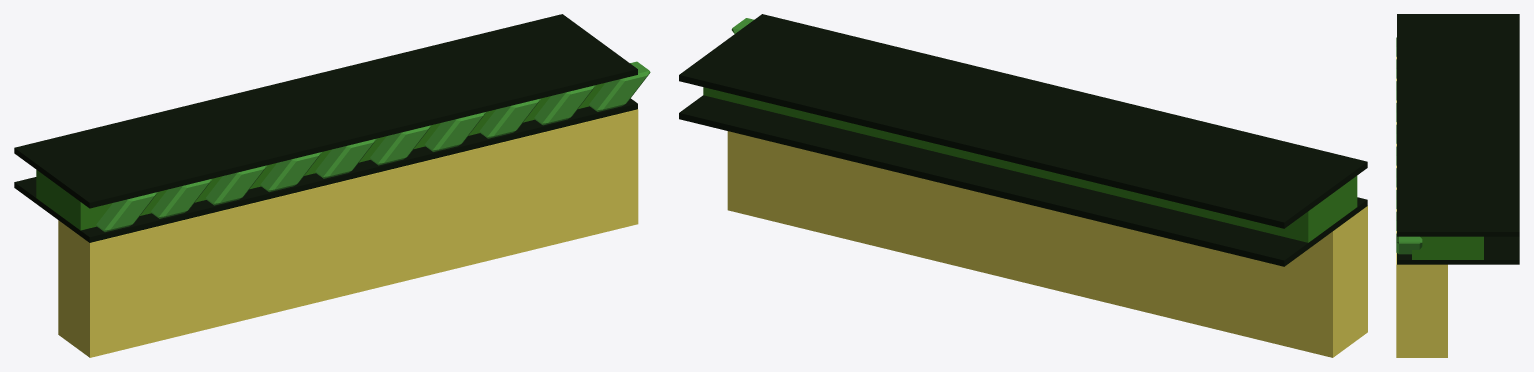
Rendered from moverYReposicionar.fbx.
The picture shows the model from 3 angles, left to right: view 1: azimuth 30°, elevation 25°; view 2: azimuth 150°, elevation 25°; view 3: azimuth 270°, elevation 25°; orthographic projection. The views are drawn at different scales.
Visible parts, largest first — view 1: PlataformaAzul.002, PlataformaAzul.004, PlataformaAzul.003, PlataformaAzul.005, PlataformaAzul.001; view 2: PlataformaAzul.002, PlataformaAzul.004, PlataformaAzul.005, PlataformaAzul.001; view 3: PlataformaAzul.004, PlataformaAzul.002, PlataformaAzul.001, PlataformaAzul.005, PlataformaAzul.003.
Boxes of the visible parts, x1=… form: PlataformaAzul.002: x1=58, y1=109, x2=638, y2=357; PlataformaAzul.004: x1=14, y1=14, x2=637, y2=208; PlataformaAzul.003: x1=96, y1=61, x2=650, y2=232; PlataformaAzul.005: x1=14, y1=98, x2=637, y2=242; PlataformaAzul.001: x1=36, y1=83, x2=605, y2=230; PlataformaAzul.002: x1=727, y1=131, x2=1367, y2=357; PlataformaAzul.004: x1=679, y1=14, x2=1367, y2=228; PlataformaAzul.005: x1=679, y1=95, x2=1367, y2=266; PlataformaAzul.001: x1=703, y1=87, x2=1357, y2=242; PlataformaAzul.004: x1=1397, y1=14, x2=1519, y2=236; PlataformaAzul.002: x1=1396, y1=57, x2=1447, y2=357; PlataformaAzul.001: x1=1412, y1=236, x2=1483, y2=259; PlataformaAzul.005: x1=1397, y1=236, x2=1519, y2=264; PlataformaAzul.003: x1=1396, y1=37, x2=1422, y2=254.
Size of the model in its own units: 2051 by 540 by 478.
